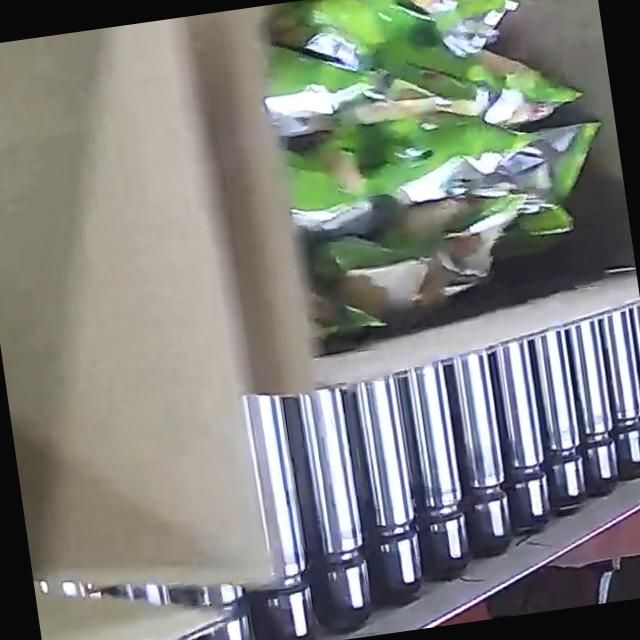yogurt: (250, 0, 629, 349), (0, 36, 107, 537)
